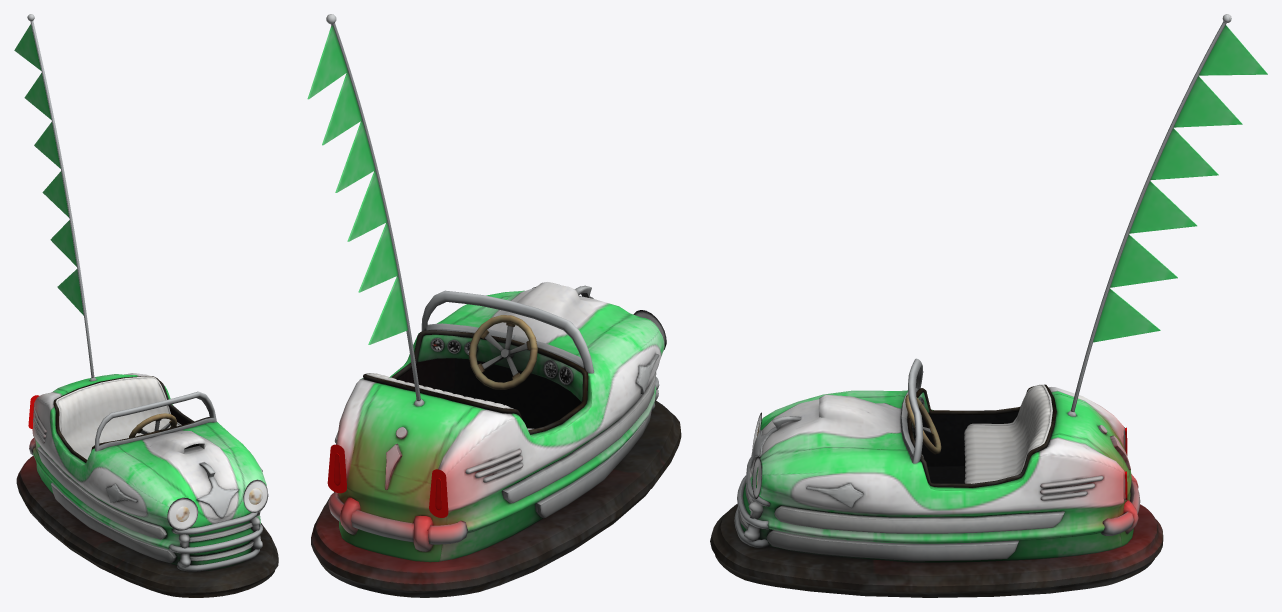
The model's file is BumperCar.glb.
The picture shows the model from 3 angles, left to right: view 1: azimuth 30°, elevation 25°; view 2: azimuth 150°, elevation 25°; view 3: azimuth 270°, elevation 25°; orthographic projection. The views are drawn at different scales.
Visible parts, largest first — view 1: bumpercar_vert; view 2: bumpercar_vert; view 3: bumpercar_vert.
Part boxes in pixels (x1,y1,x2,y2): bumpercar_vert: (14, 14, 278, 597); bumpercar_vert: (307, 14, 681, 597); bumpercar_vert: (710, 14, 1267, 597).
Bounding box in the file's own units: 3.87 × 9.44 × 8.9.
Materials: 14 (14 with a texture image).
